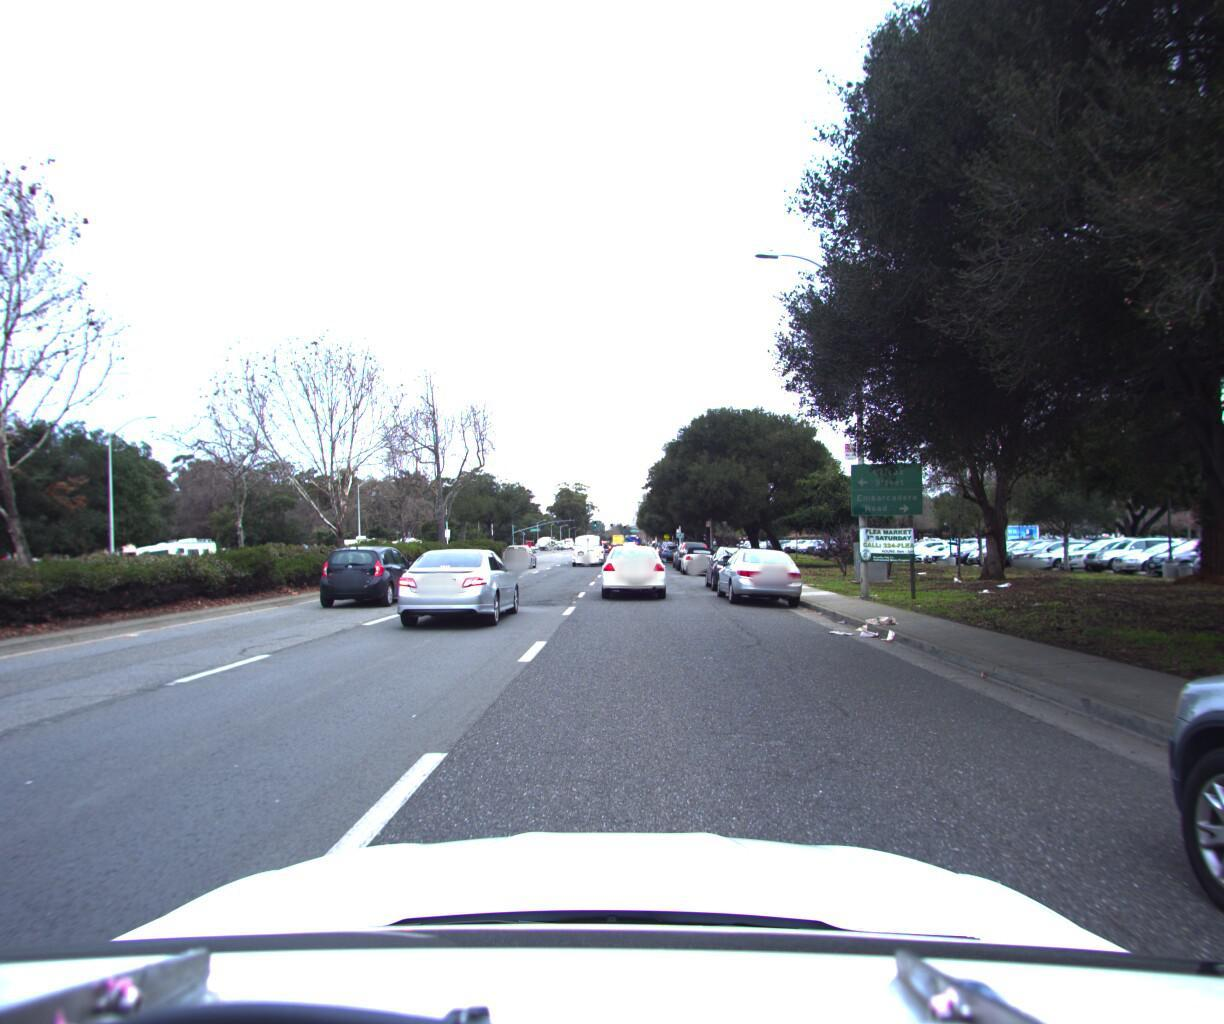car: (386, 542, 523, 634), (312, 541, 428, 608), (712, 540, 805, 605), (597, 538, 666, 600), (701, 539, 768, 589), (677, 539, 719, 571), (571, 528, 607, 563), (672, 534, 709, 567), (500, 539, 536, 566), (658, 537, 681, 557), (621, 536, 638, 551)
other_vehicle: (115, 535, 223, 587), (333, 530, 389, 566), (0, 516, 11, 627)
